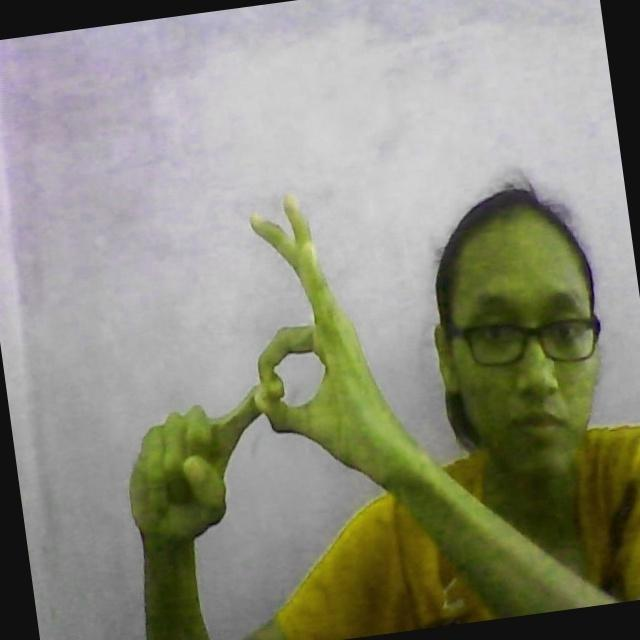Q: (123, 185, 352, 540)
